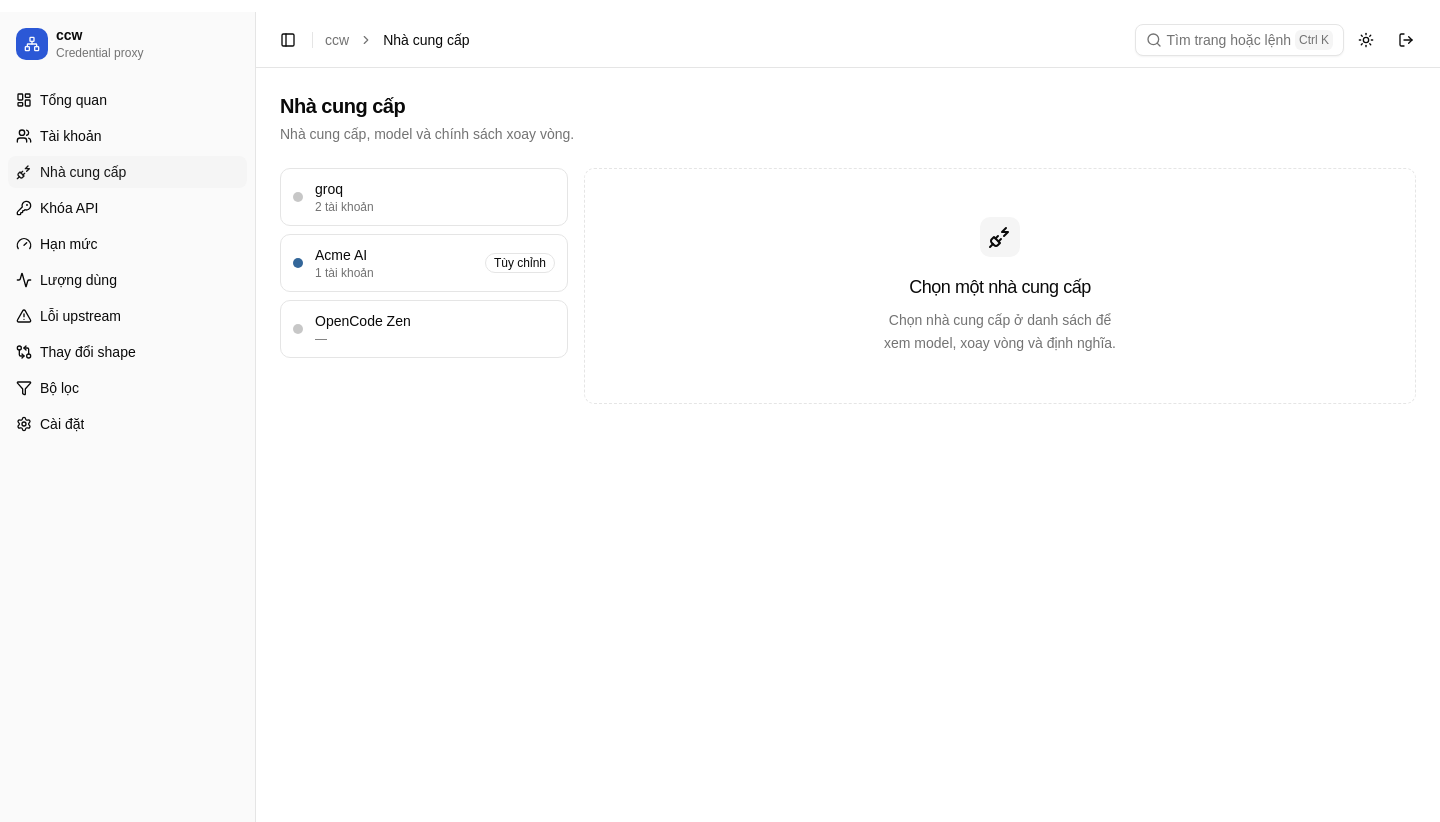
Scenario: models tab › shows an error with retry when the table fails
Click the button "groq 2 tài khoản" at [344, 207], box [280, 168, 568, 226]
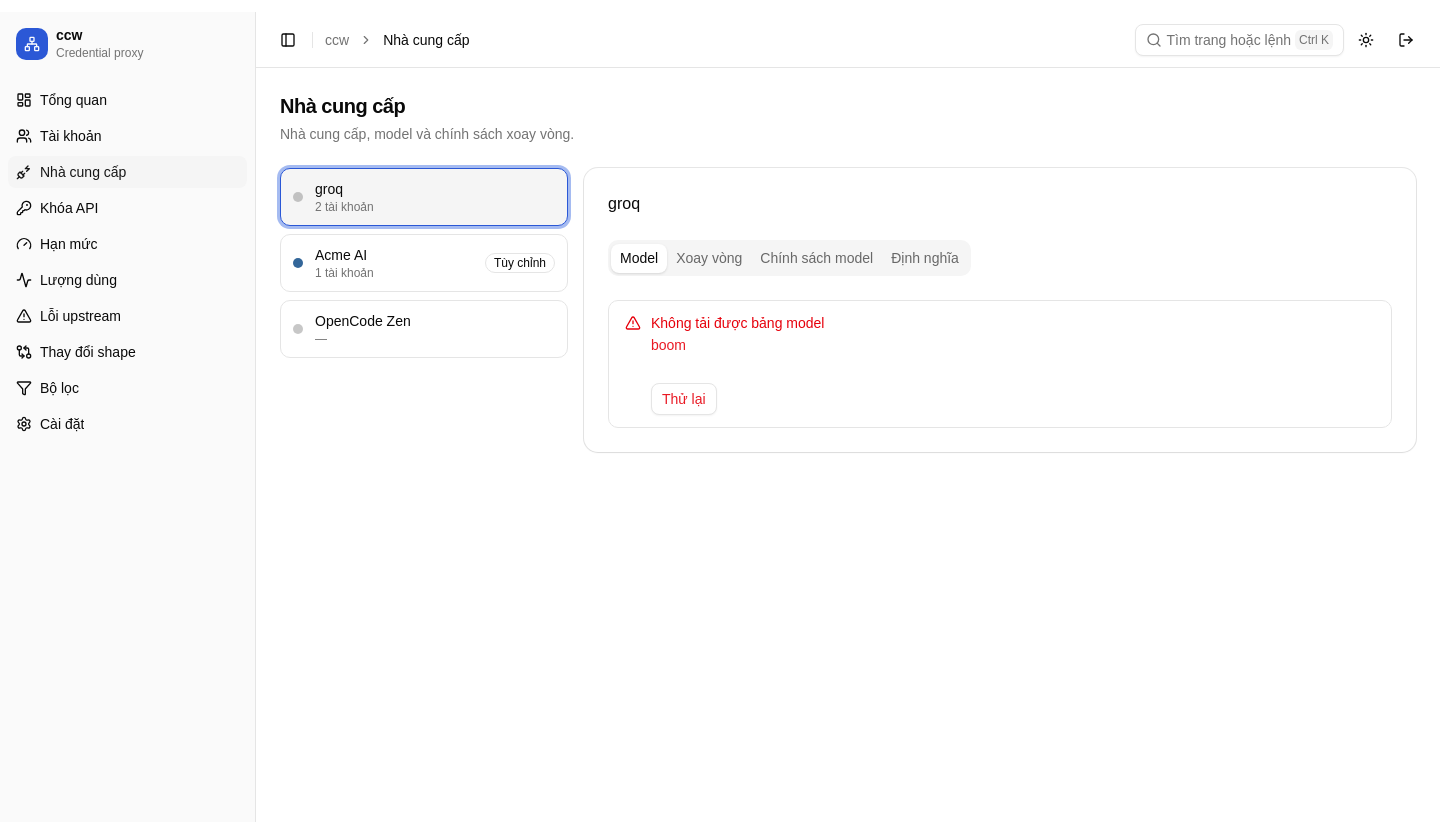
Expected: the text "boom" is shown, [651, 337, 686, 353]
